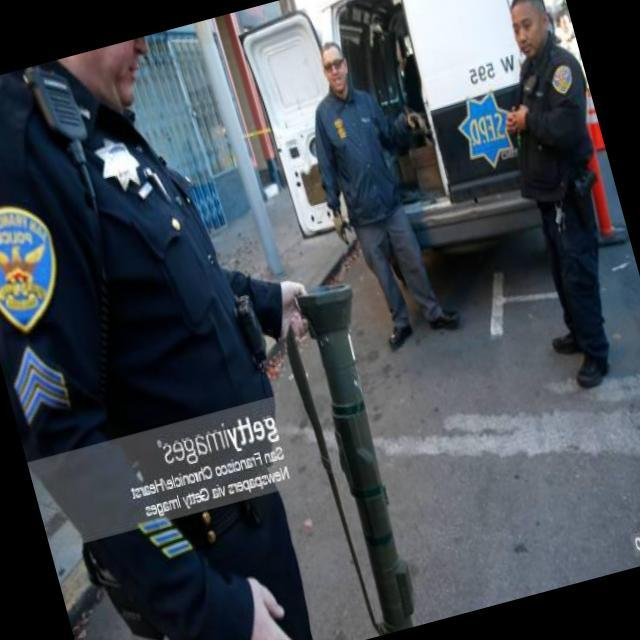rocket: (280, 270, 440, 628)
